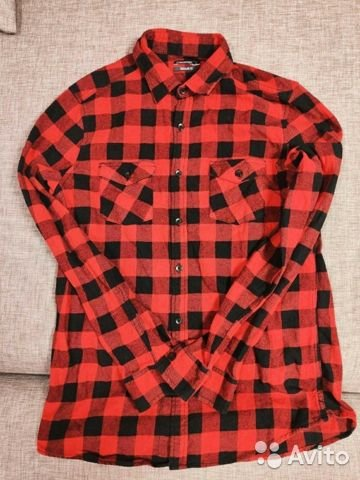squared: (12, 26, 357, 472)
